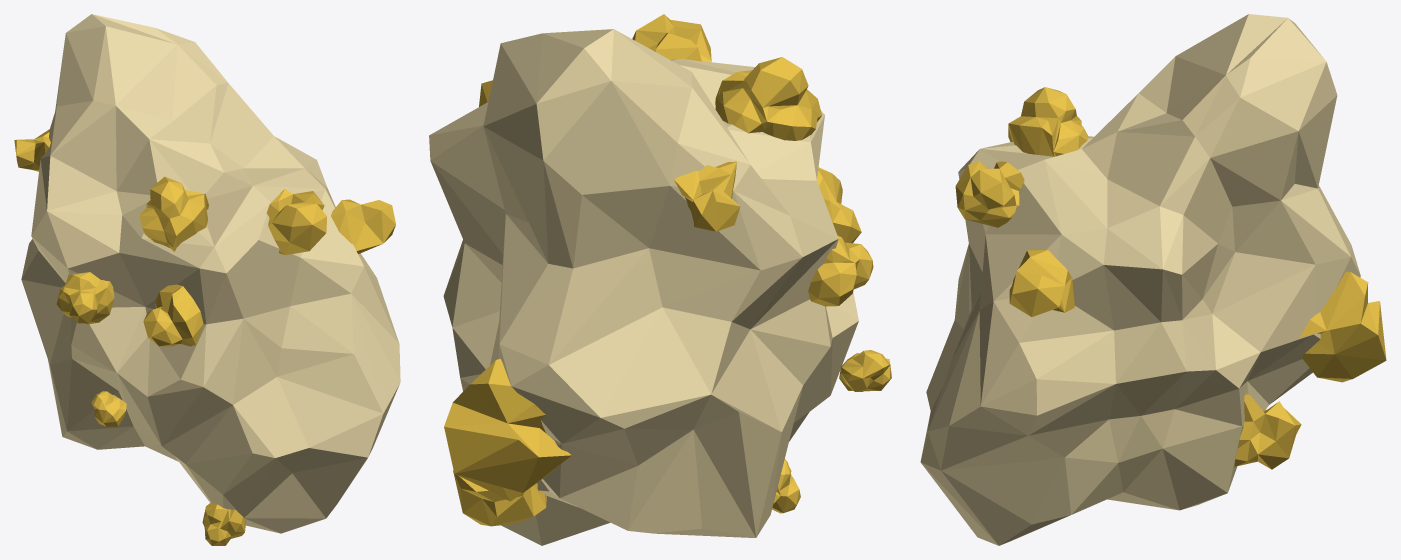
File: MetalOre (4).fbx
3 views of the same model, side by side, from view 1: azimuth 30°, elevation 25°; view 2: azimuth 150°, elevation 25°; view 3: azimuth 270°, elevation 25° (orthographic). The views are drawn at different scales.
Parts seen in each view (by area): view 1: Asteroid359; view 2: Asteroid359; view 3: Asteroid359.
Part boxes in pixels (x1,y1,x2,y2): Asteroid359: (14,14,400,545); Asteroid359: (429,14,891,545); Asteroid359: (920,14,1386,545).
Bounding box in the file's own units: 270 × 380 × 327.
